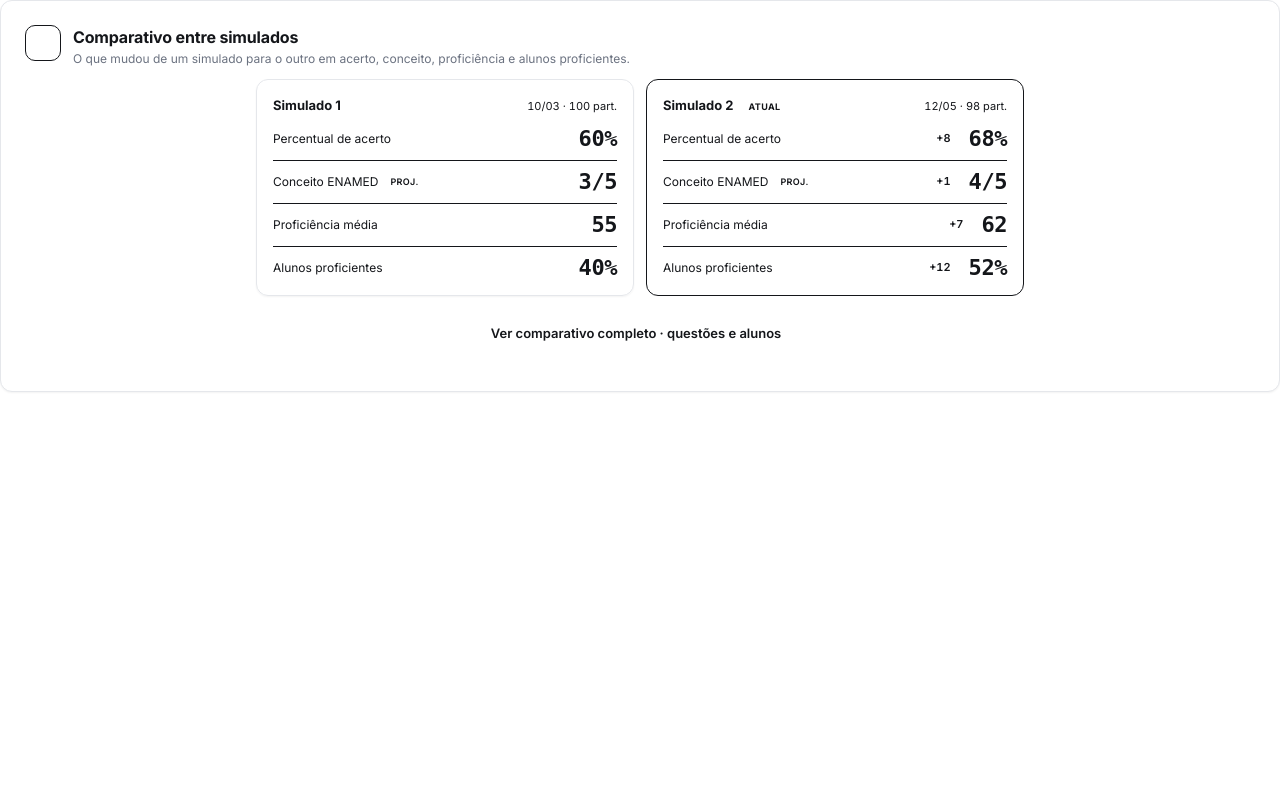
ComparativoSimulados › a tabela expandida traz a linha de Alunos proficientes, uma coluna por simulado
Click the button "Ver comparativo completo · questões e alunos".
click(640, 333)  # box 25,312 -> 1255,355
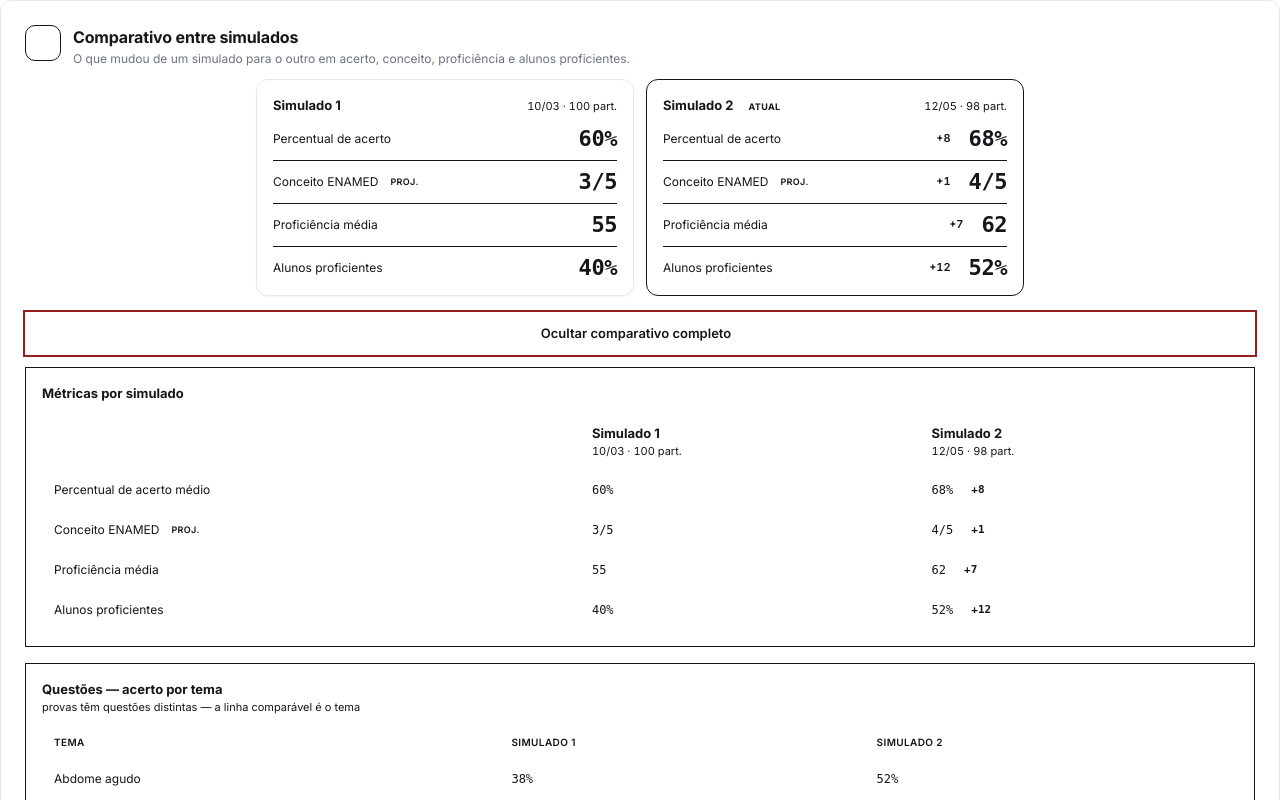
Result: the row "Alunos proficientes 40% 52% +12" is shown at 42,590 -> 1238,630
